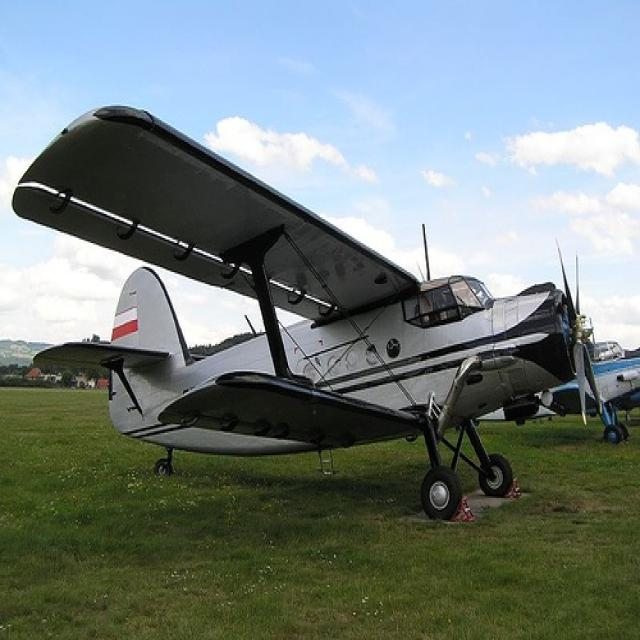aeroplane: (10, 104, 603, 522), (476, 341, 639, 443)
